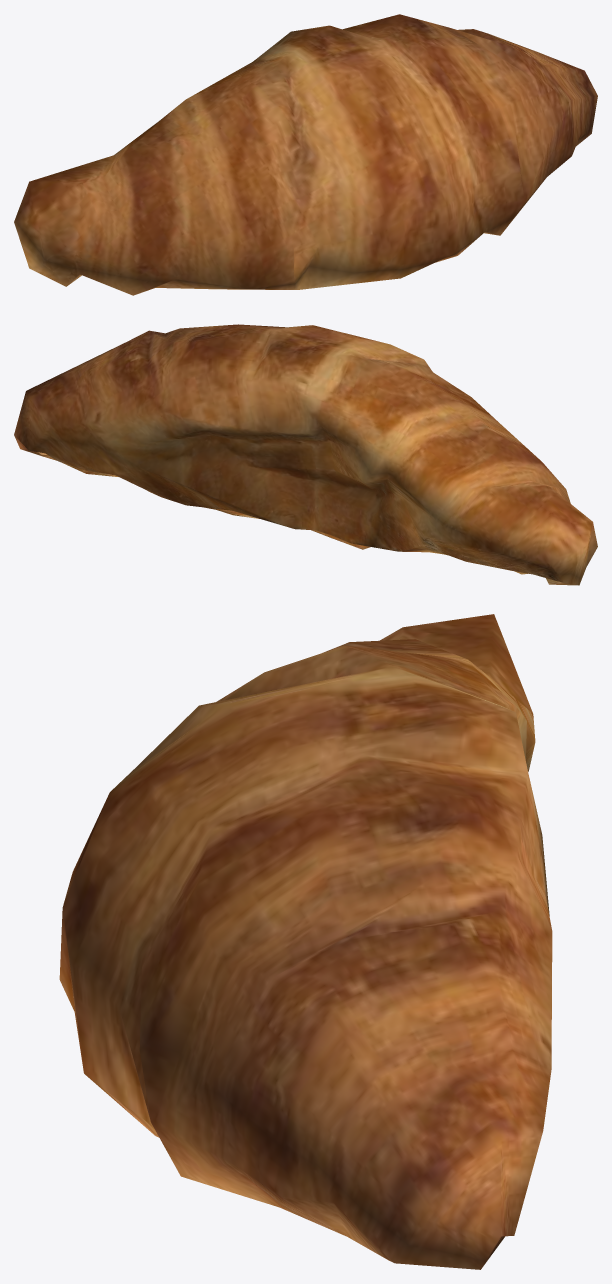
File: ph_croissant.glb
The picture shows the model from 3 angles, top to bottom: view 1: azimuth 30°, elevation 25°; view 2: azimuth 150°, elevation 25°; view 3: azimuth 270°, elevation 25°; orthographic projection. The views are drawn at different scales.
Parts seen in each view (by area): view 1: croissant; view 2: croissant; view 3: croissant.
Boxes of the visible parts, x1,y1,x2,y2 form: croissant: (14, 14, 597, 295); croissant: (14, 324, 597, 585); croissant: (59, 614, 552, 1269).
Size of the model in its own units: 0.2 by 0.062 by 0.0747.
1 material, 1 textured.
